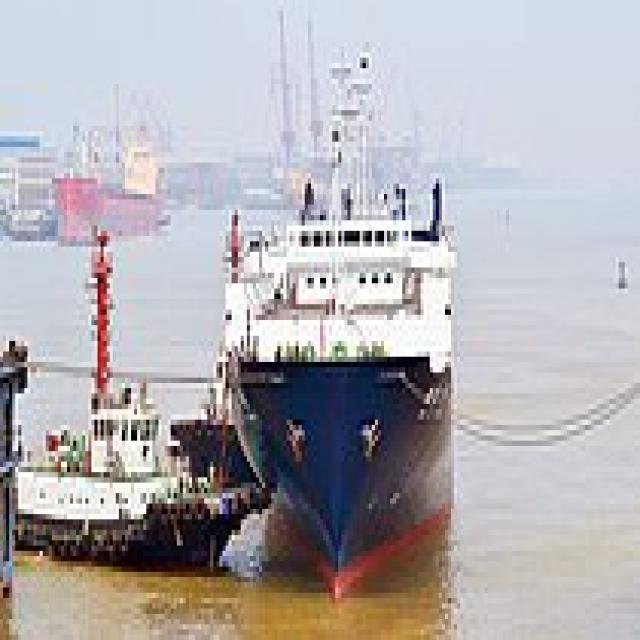Carrier: (217, 37, 458, 603)
